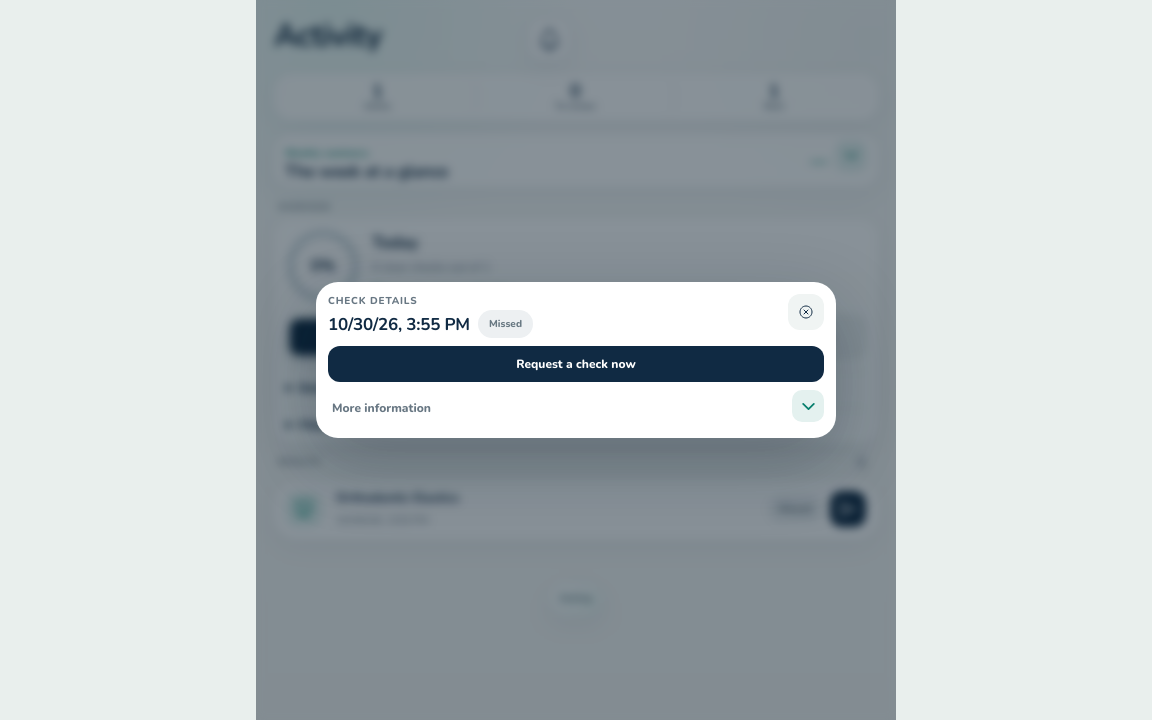
Scenario: ParentDashboard › offers the contextual Request a check now action from notification details
The image size is (1152, 720).
Click the button "Request a check now": [576, 364] box left=328, top=346, right=824, bottom=382
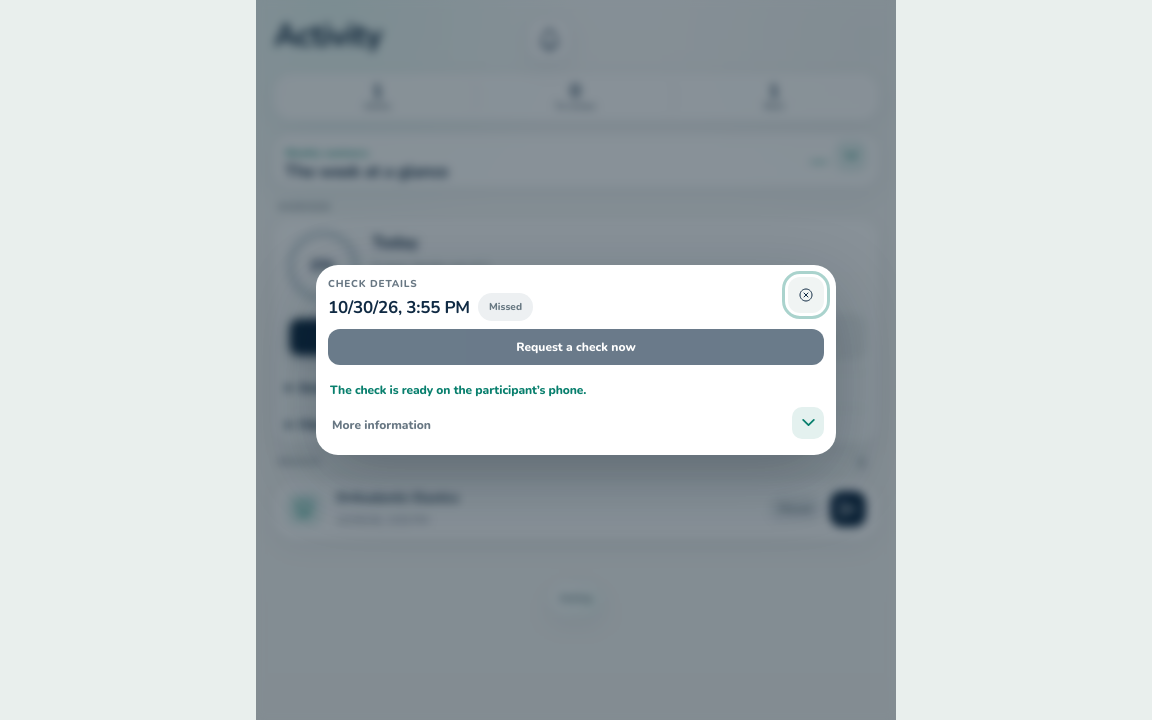
Expected: the element with class "history-detail-request-actions" shows "The check is ready on the participant’s phone.", left=330, top=382, right=586, bottom=398
